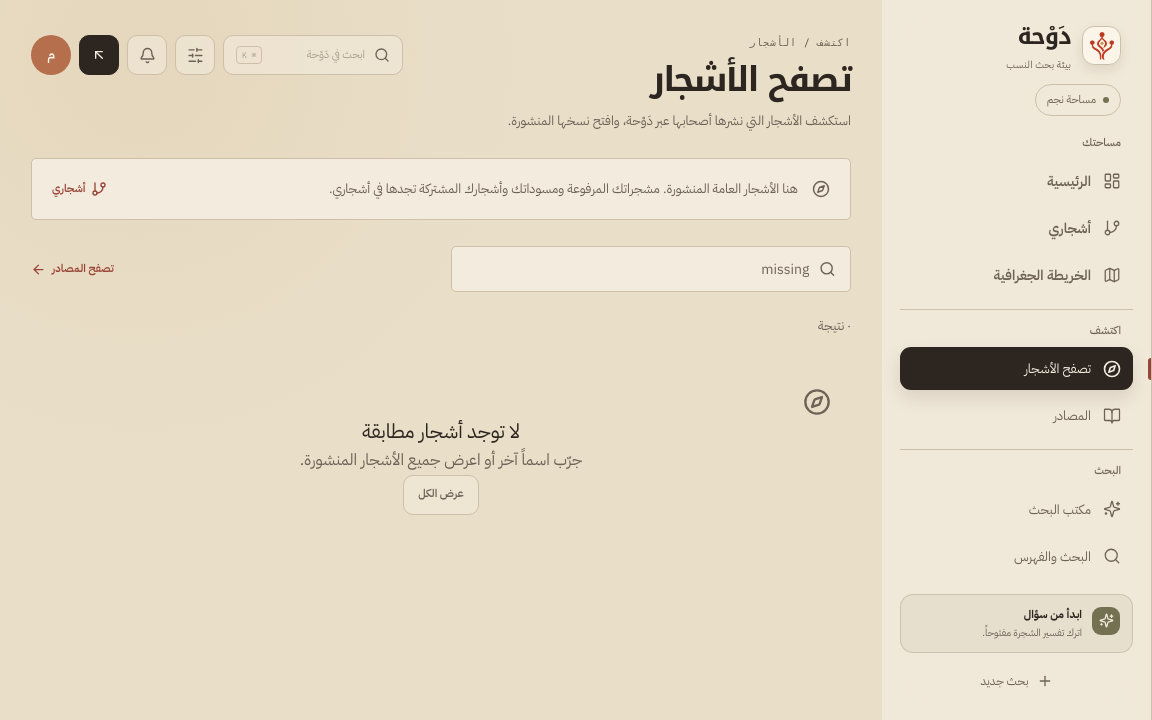
it: keeps browse search in the URL without changing the workspace
This screenshot has width=1152, height=720.
Click the link "عرض الكل" at [441, 495], box [403,475,479,515]
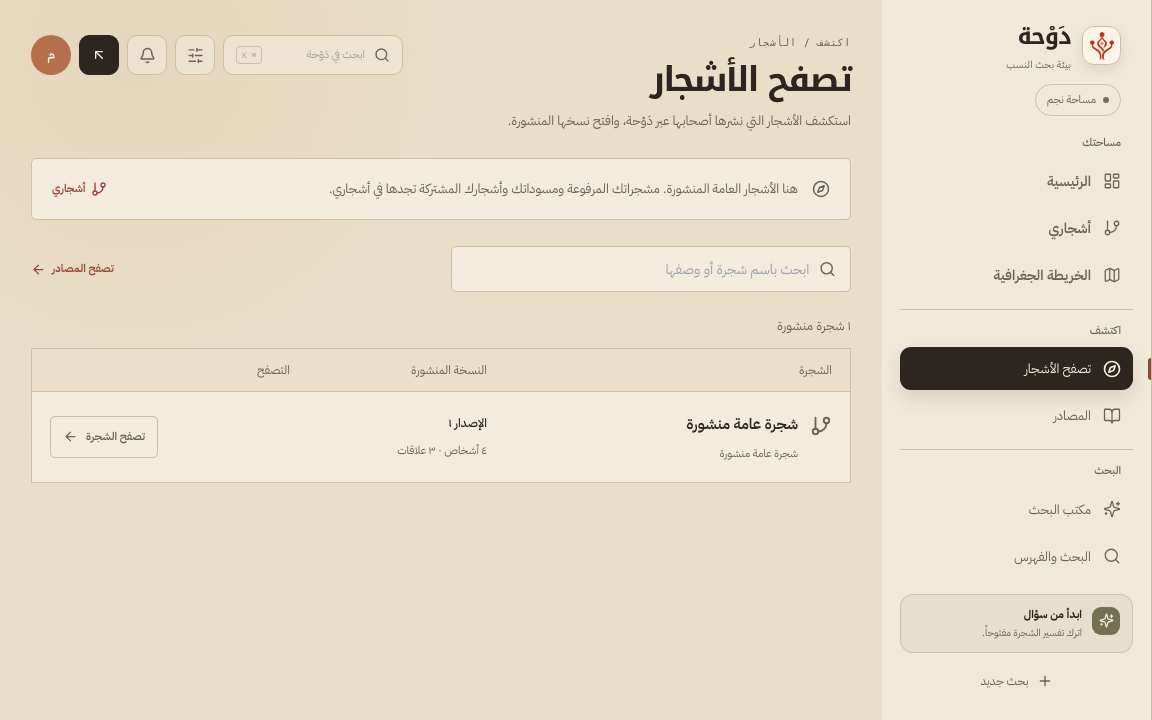
Expected: the number of elements with class "tree-library-row" is 1, [50,413,832,462]
